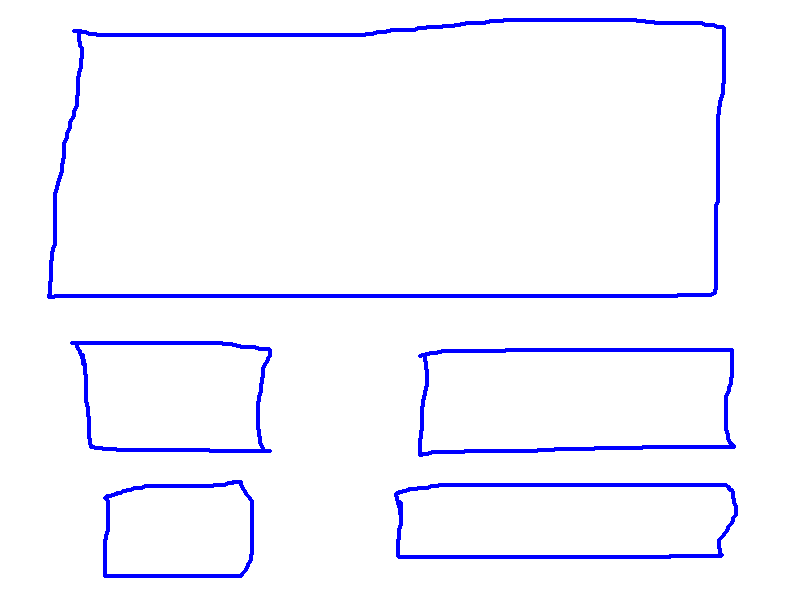rect: (41, 11, 732, 307), (410, 343, 741, 458), (392, 474, 745, 566), (67, 334, 278, 460), (98, 472, 260, 586)
